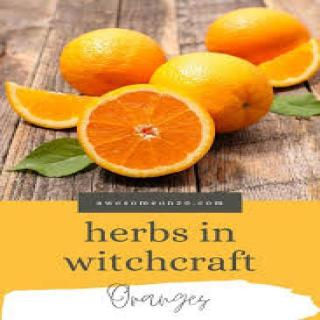orange: (66, 71, 264, 227), (146, 37, 276, 141)
